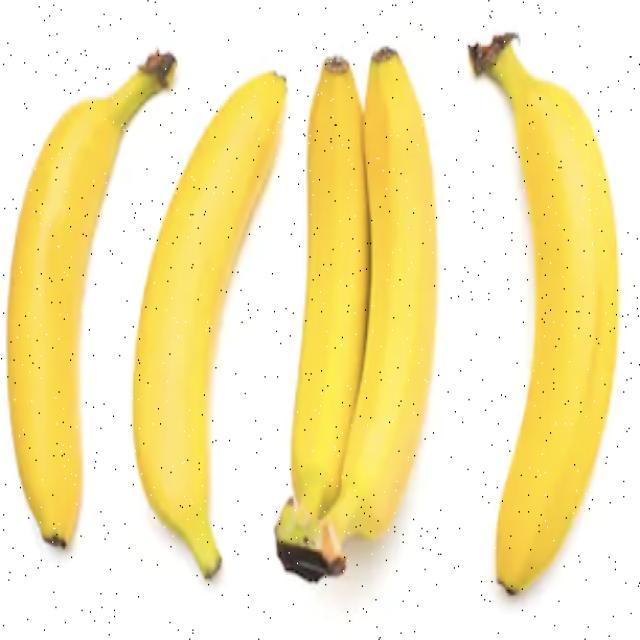banana: (275, 45, 442, 581), (5, 31, 174, 558), (128, 61, 295, 582), (470, 25, 618, 599)
